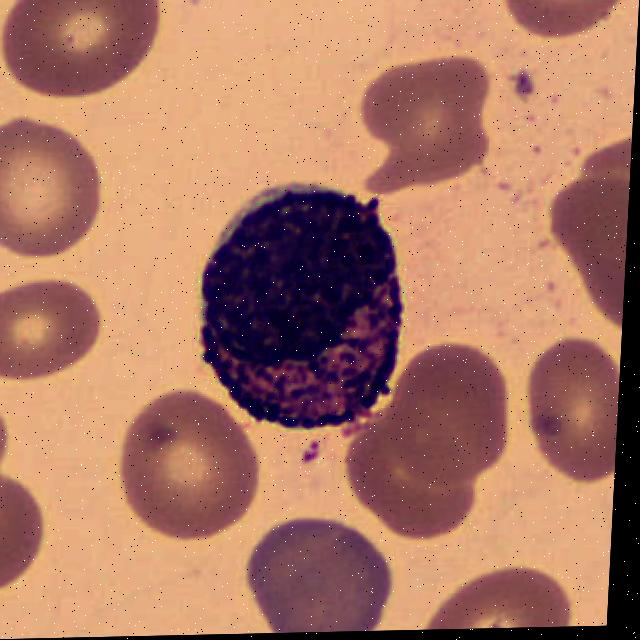basophil: (196, 174, 410, 458)
rbc: (110, 401, 282, 555), (336, 52, 497, 206), (236, 524, 408, 634), (0, 0, 169, 102), (392, 349, 509, 495), (0, 111, 106, 261), (344, 440, 481, 550), (539, 173, 630, 335), (523, 342, 622, 477), (0, 280, 122, 389), (476, 0, 624, 79), (0, 439, 64, 618), (424, 564, 572, 630), (540, 144, 632, 230), (0, 405, 15, 482)
